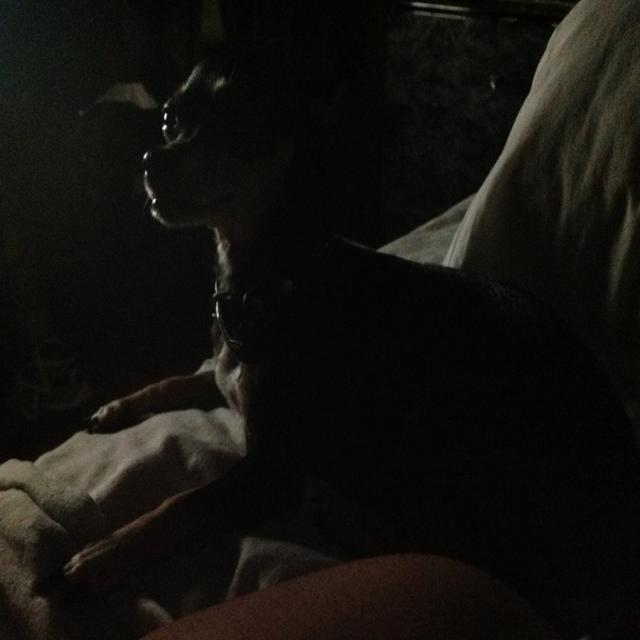dog: (134, 64, 590, 571)
